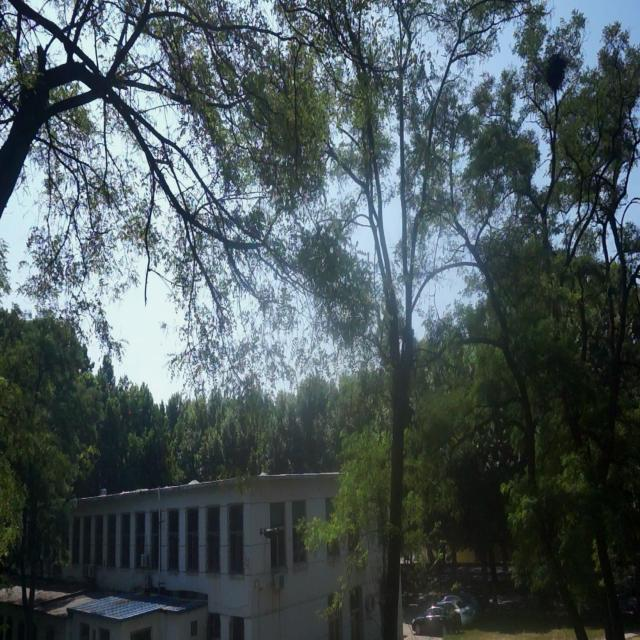drone: (256, 523, 284, 543)
